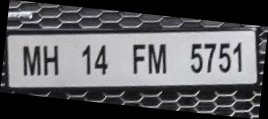character: (21, 45, 41, 76), (148, 42, 166, 74), (41, 44, 58, 76), (93, 43, 108, 75), (132, 42, 146, 74), (203, 43, 216, 72), (190, 43, 202, 74), (219, 43, 231, 73), (233, 41, 243, 73), (81, 44, 91, 75)
